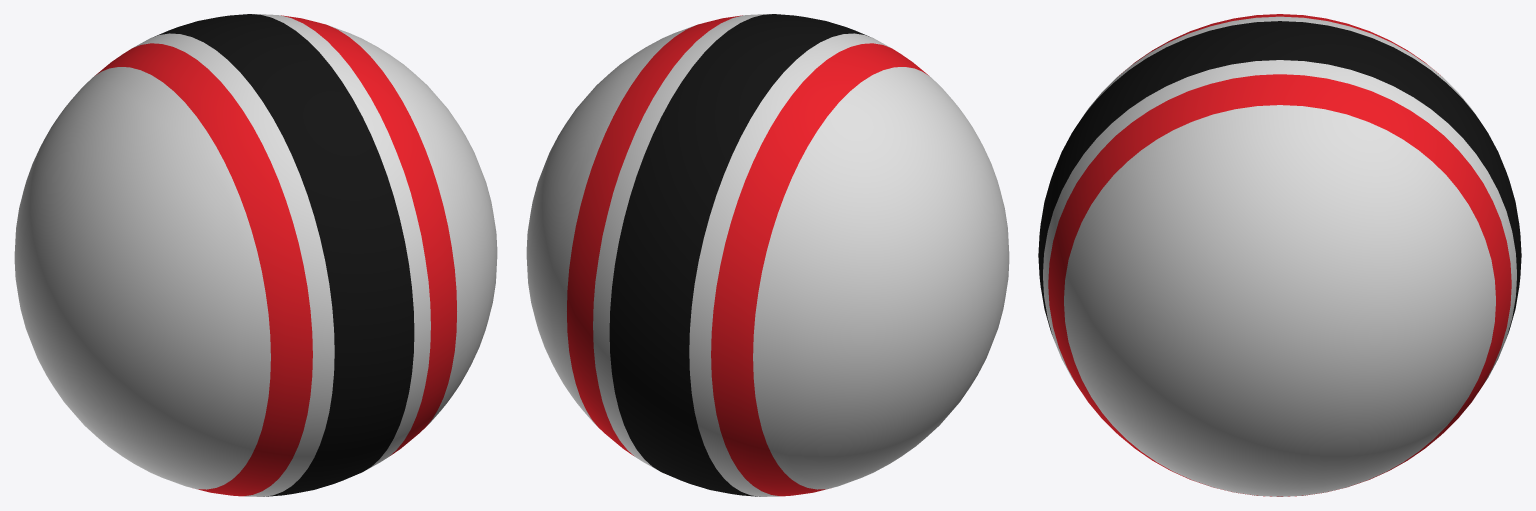
File: Ball.fbx
The picture shows the model from 3 angles, left to right: view 1: azimuth 30°, elevation 25°; view 2: azimuth 150°, elevation 25°; view 3: azimuth 270°, elevation 25°; orthographic projection.
Visible parts, largest first — view 1: Cube; view 2: Cube; view 3: Cube.
Boxes of the visible parts, <box> form: Cube: <box>14,14,497,496</box>; Cube: <box>526,14,1009,496</box>; Cube: <box>1038,14,1521,496</box>.
Size of the model in its own units: 100 by 100 by 100.
